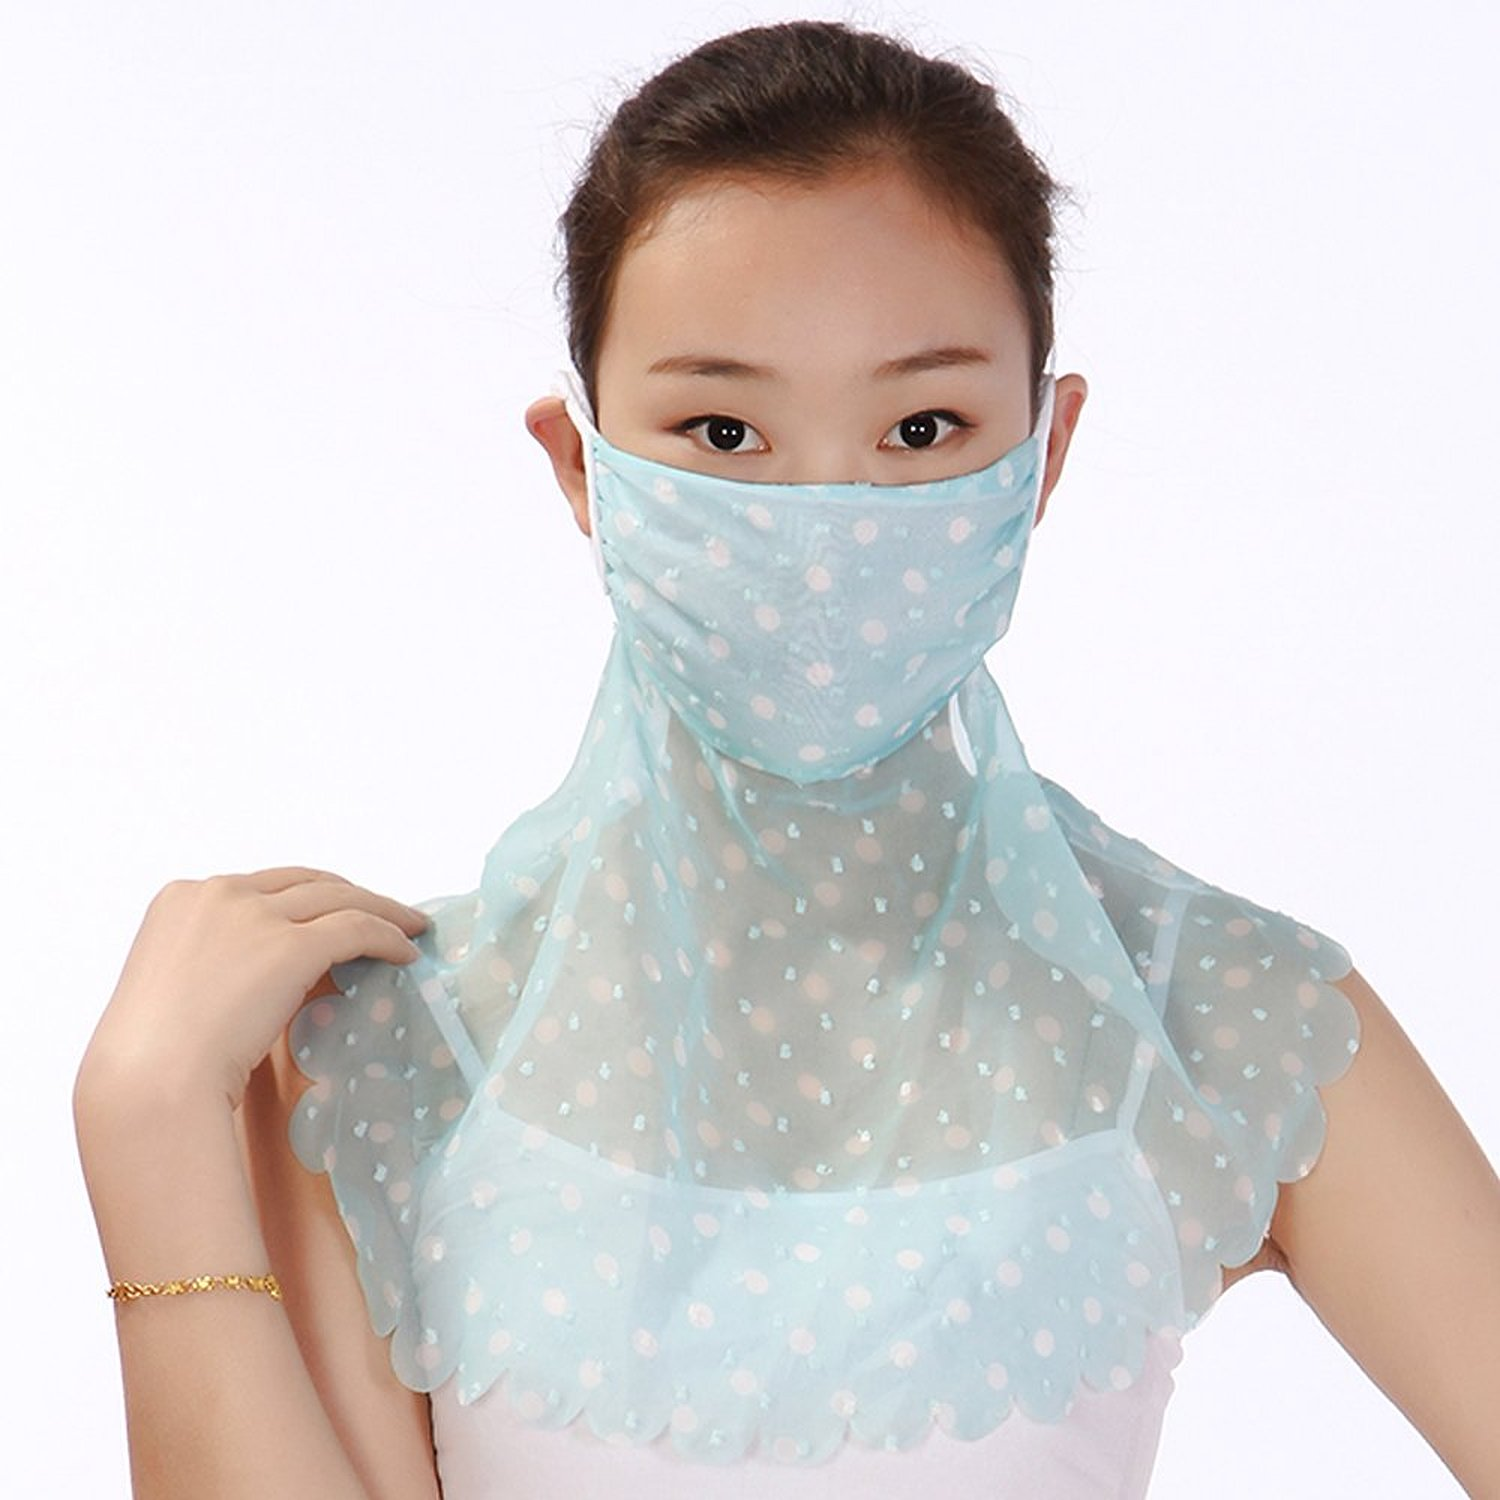face_mask: (591, 168, 1033, 751)
